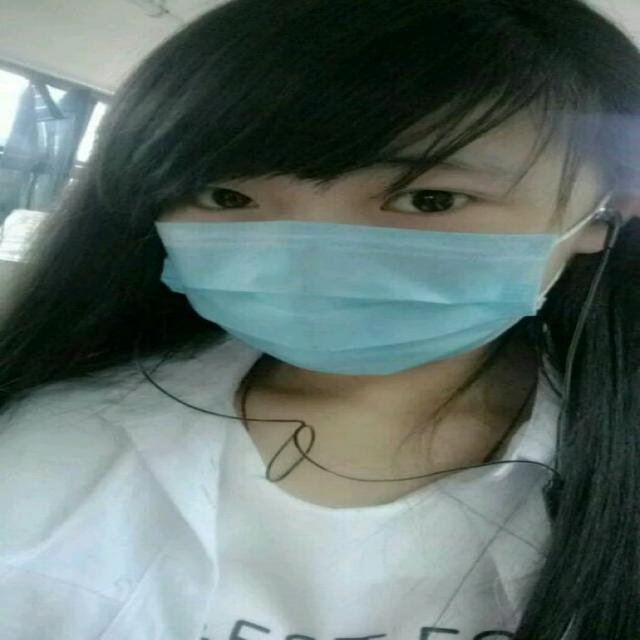mask: (154, 102, 576, 372)
